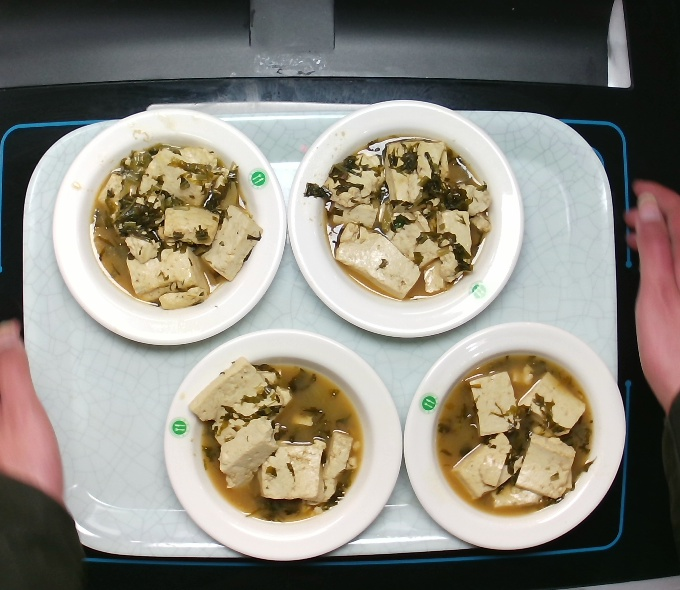wcq-XueCaiDouFu: (299, 131, 494, 305), (84, 137, 261, 314), (186, 355, 370, 524), (429, 349, 594, 518)
